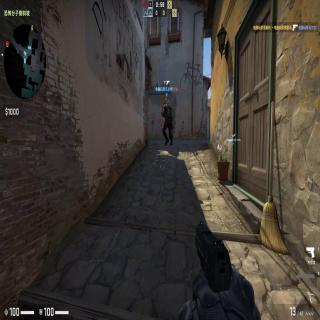CT-Body: (160, 98, 174, 147)
CT-Head: (164, 98, 169, 105)
